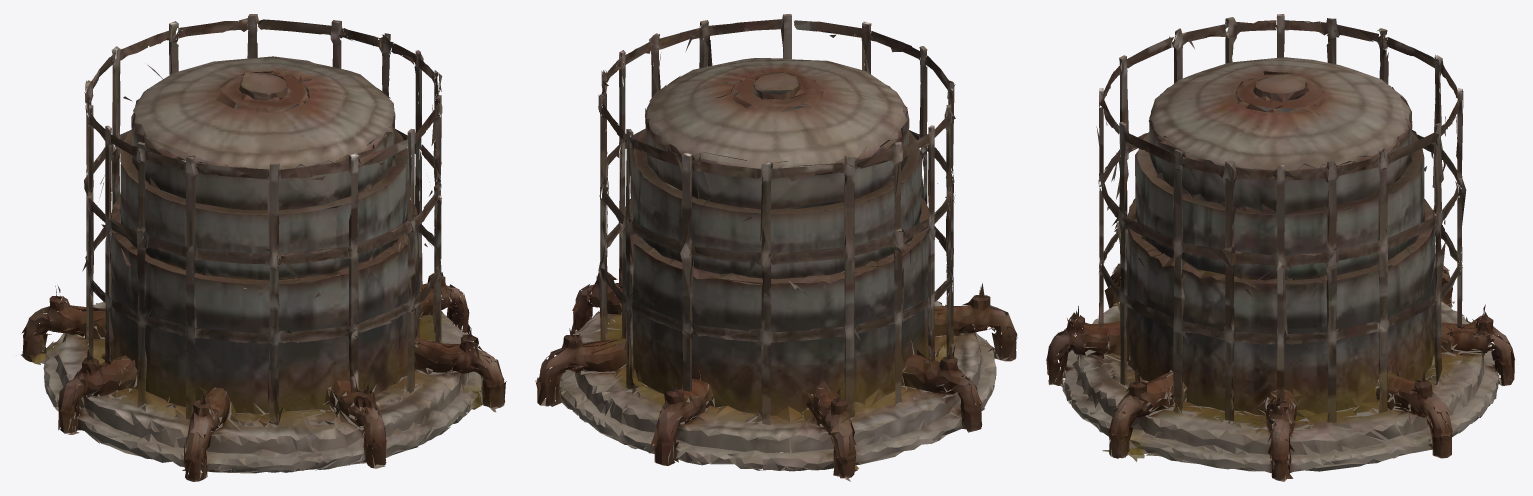
The model's file is building_gasholder.glb.
The picture shows the model from 3 angles, left to right: view 1: azimuth 30°, elevation 25°; view 2: azimuth 150°, elevation 25°; view 3: azimuth 270°, elevation 25°; orthographic projection.
Parts seen in each view (by area): view 1: building_gasholder; view 2: building_gasholder; view 3: building_gasholder.
Boxes of the visible parts, x1,y1,x2,y2 form: building_gasholder: [21, 14, 506, 481]; building_gasholder: [535, 14, 1017, 481]; building_gasholder: [1046, 14, 1514, 481].
Bounding box in the file's own units: 34.94 × 24.89 × 35.
Materials: 1 (1 with a texture image).
